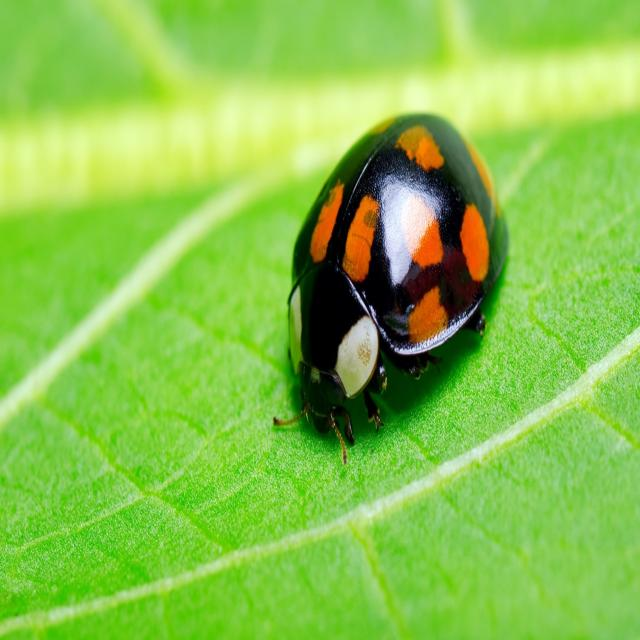ladybug: (287, 115, 509, 443)
